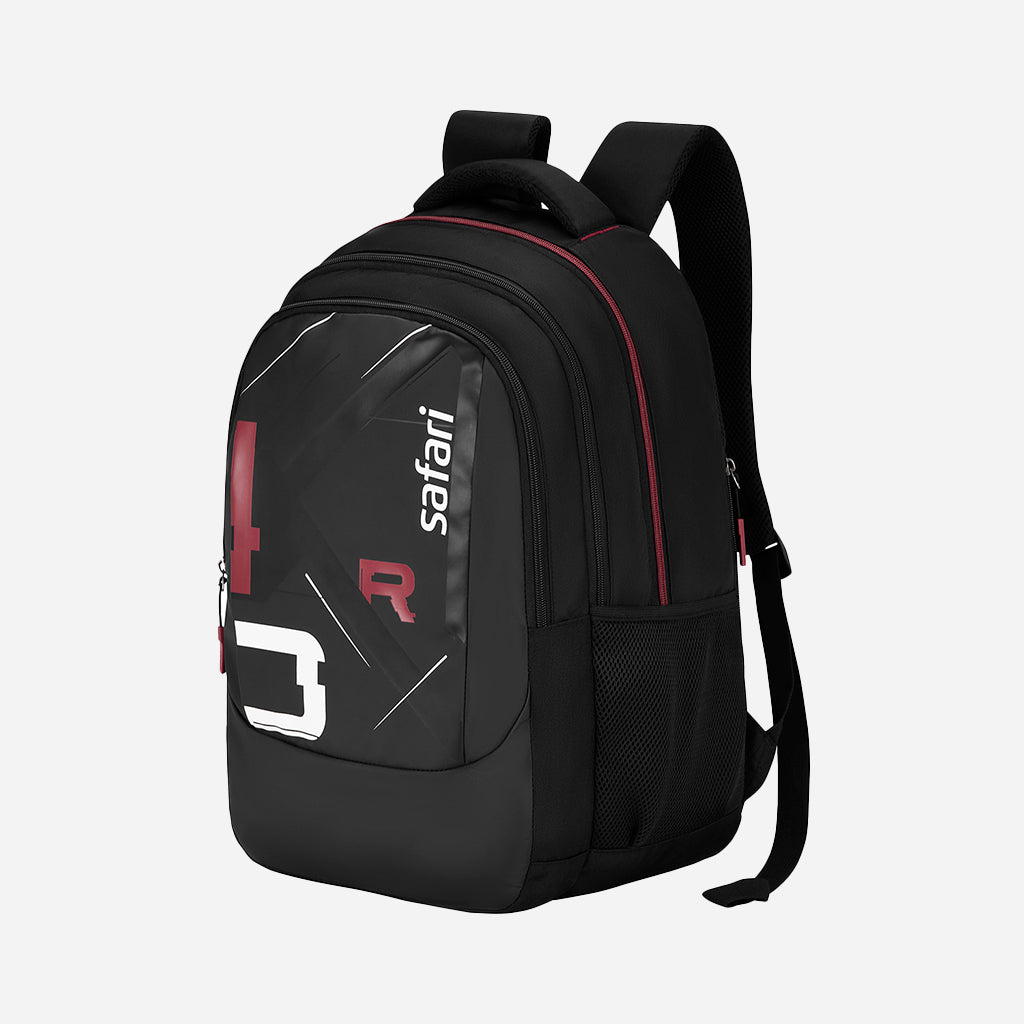backpack: (216, 109, 811, 915)
